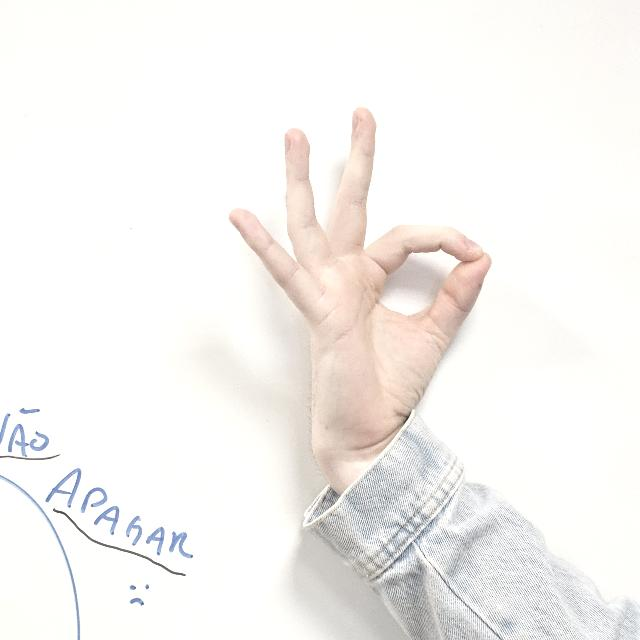Bolinha: (222, 102, 508, 444)
